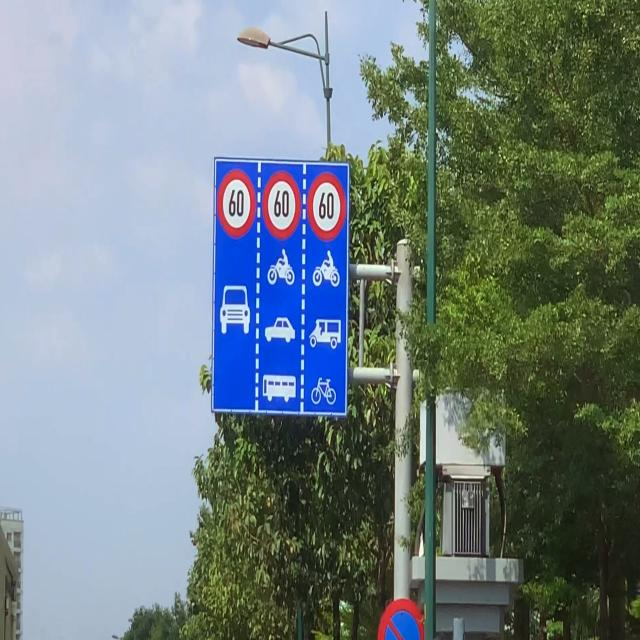Cam do: (373, 596, 426, 640)
Toc do toi da: (212, 162, 260, 238), (260, 164, 302, 239), (306, 172, 345, 245)
